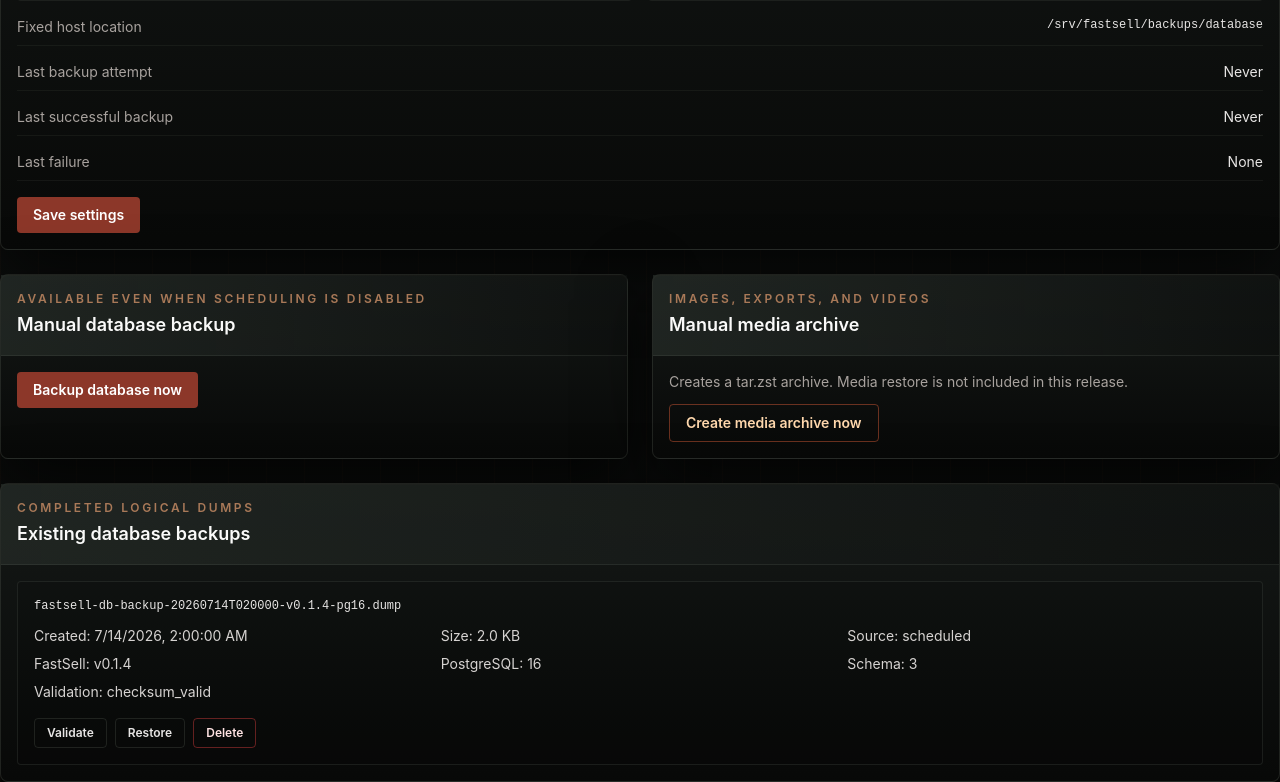
Test: AdminBackupPage › starts a manual backup and polls its job to completion
This screenshot has width=1280, height=782.
(page scrolled)
Click the button "Backup database now".
click(108, 390)  # box [17,372,198,408]
Wait 1600 ms
(page scrolled)
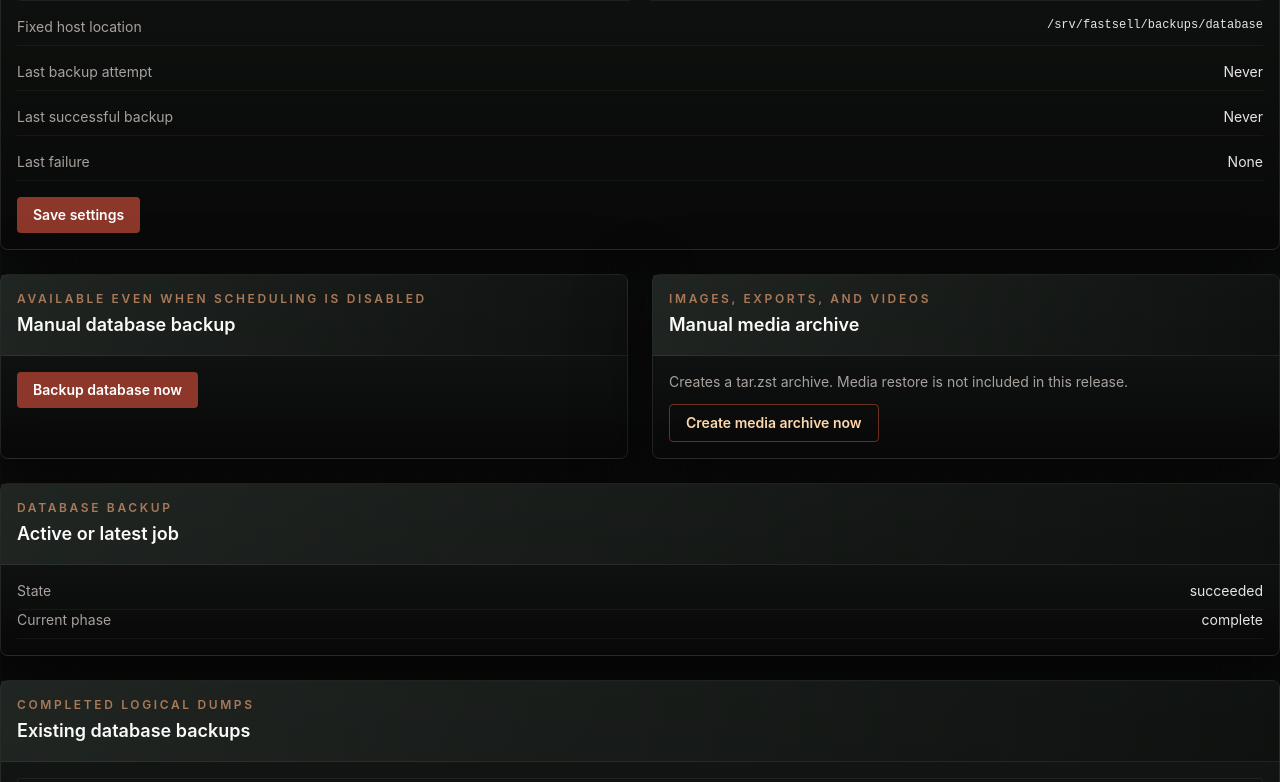
expect the text "complete" is shown: met, box [1202,610,1263,630]
